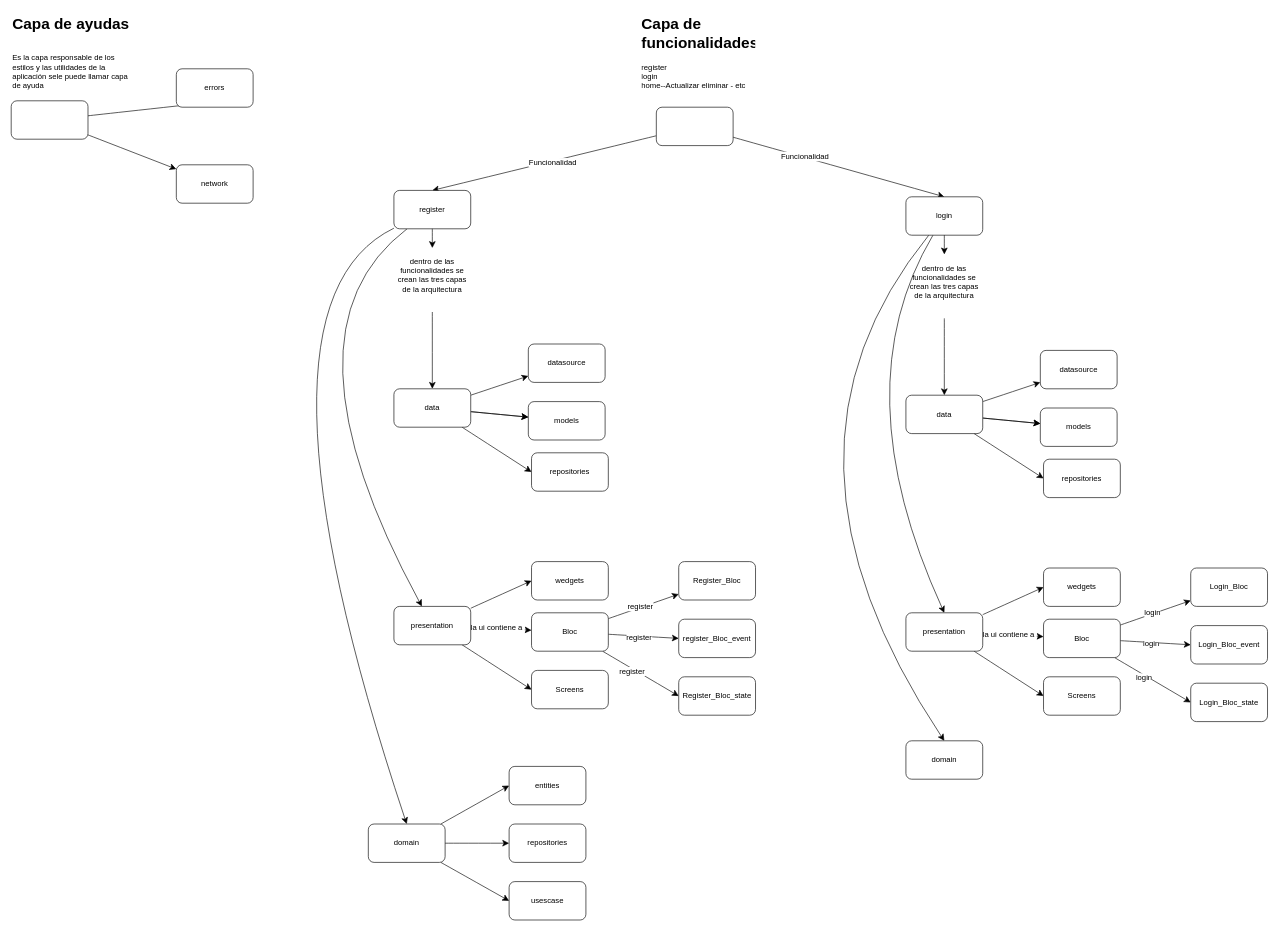
The diagram is 1279 pixels wide and 931 high, and some of its shapes have lost their labels. Each missing label, with the centre of its shape:
core: point (49, 119)
feature: point (694, 126)
